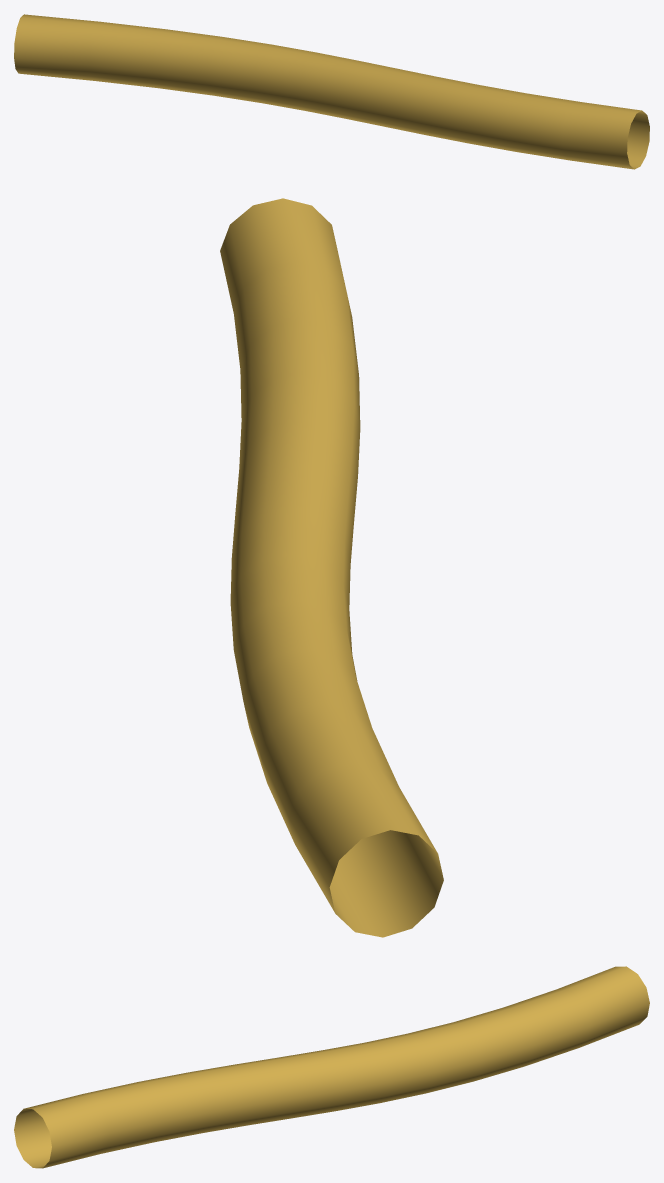
3 renders of one model, top to bottom at view 1: azimuth 30°, elevation 25°; view 2: azimuth 150°, elevation 25°; view 3: azimuth 270°, elevation 25°, orthographic. The views are drawn at different scales.
Visible parts, largest first — view 1: 右侧臂丛上干后股; view 2: 右侧臂丛上干后股; view 3: 右侧臂丛上干后股.
Part boxes in pixels (left/top/right/bottom): 右侧臂丛上干后股: left=14, top=14, right=649, bottom=169; 右侧臂丛上干后股: left=220, top=198, right=443, bottom=937; 右侧臂丛上干后股: left=14, top=966, right=649, bottom=1168.
Size of the model in its own units: 0.0214 by 0.00448 by 0.0298.
